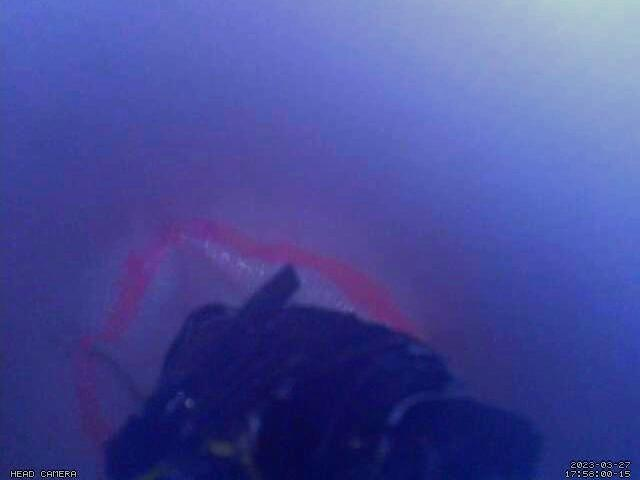head: (72, 215, 419, 460)
